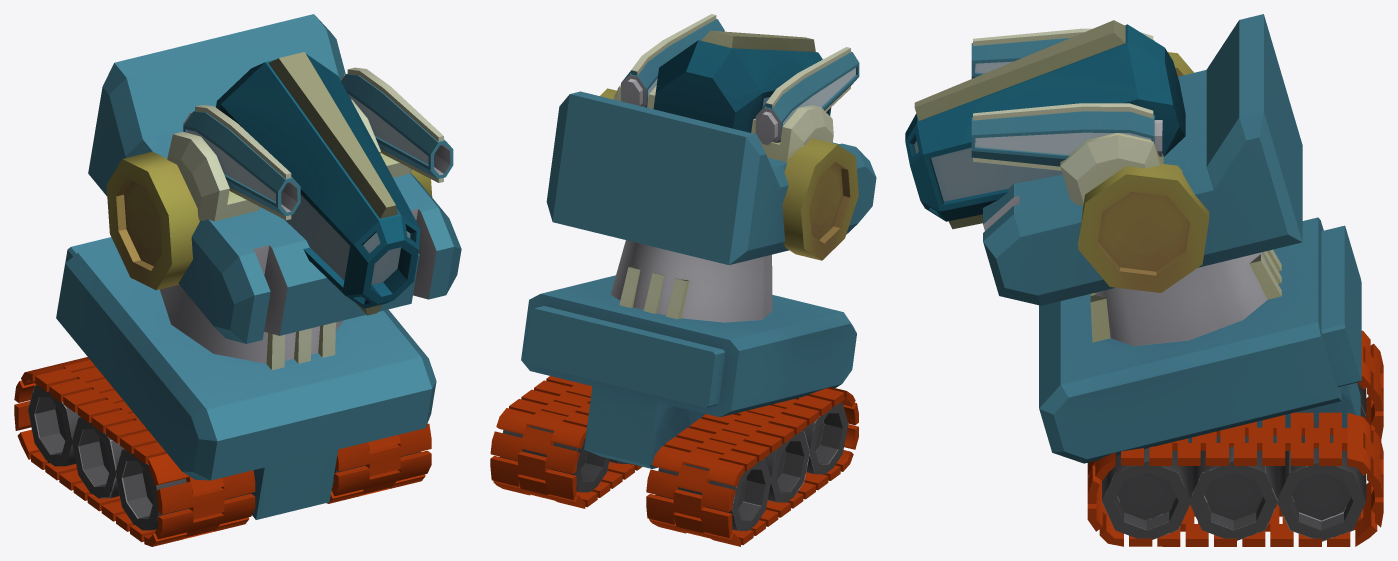
Rendered from player_move_1_upgrade1.obj.
3 renders of one model, left to right at view 1: azimuth 30°, elevation 25°; view 2: azimuth 150°, elevation 25°; view 3: azimuth 270°, elevation 25°, orthographic. The views are drawn at different scales.
Parts seen in each view (by area): view 1: Object004, Box038, Object012, Object011, Box042; view 2: Object004, Box038, Box042, Object011, Object012; view 3: Object004, Object011, Box042, Object012, Box038.
Part boxes in pixels (left/top/right/bottom): Object004: left=56, top=14, right=461, bottom=519; Box038: left=14, top=357, right=255, bottom=546; Object012: left=183, top=67, right=453, bottom=220; Object011: left=28, top=385, right=421, bottom=530; Box042: left=326, top=423, right=431, bottom=503; Object004: left=521, top=30, right=876, bottom=468; Box038: left=646, top=387, right=858, bottom=546; Box042: left=490, top=376, right=642, bottom=508; Object011: left=500, top=402, right=848, bottom=530; Object012: left=621, top=14, right=859, bottom=144; Object004: left=905, top=14, right=1361, bottom=463; Object011: left=1102, top=382, right=1366, bottom=541; Box042: left=1087, top=412, right=1383, bottom=546; Object012: left=971, top=28, right=1162, bottom=170; Box038: left=1358, top=330, right=1383, bottom=440.
Size of the model in its own units: 110 by 179 by 169.
4 materials, 2 textured.
